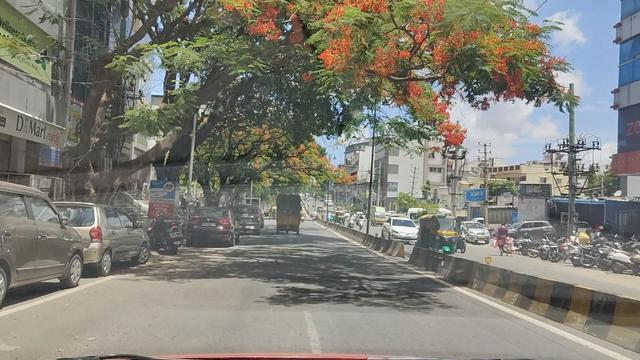HMV: (278, 191, 300, 230)
